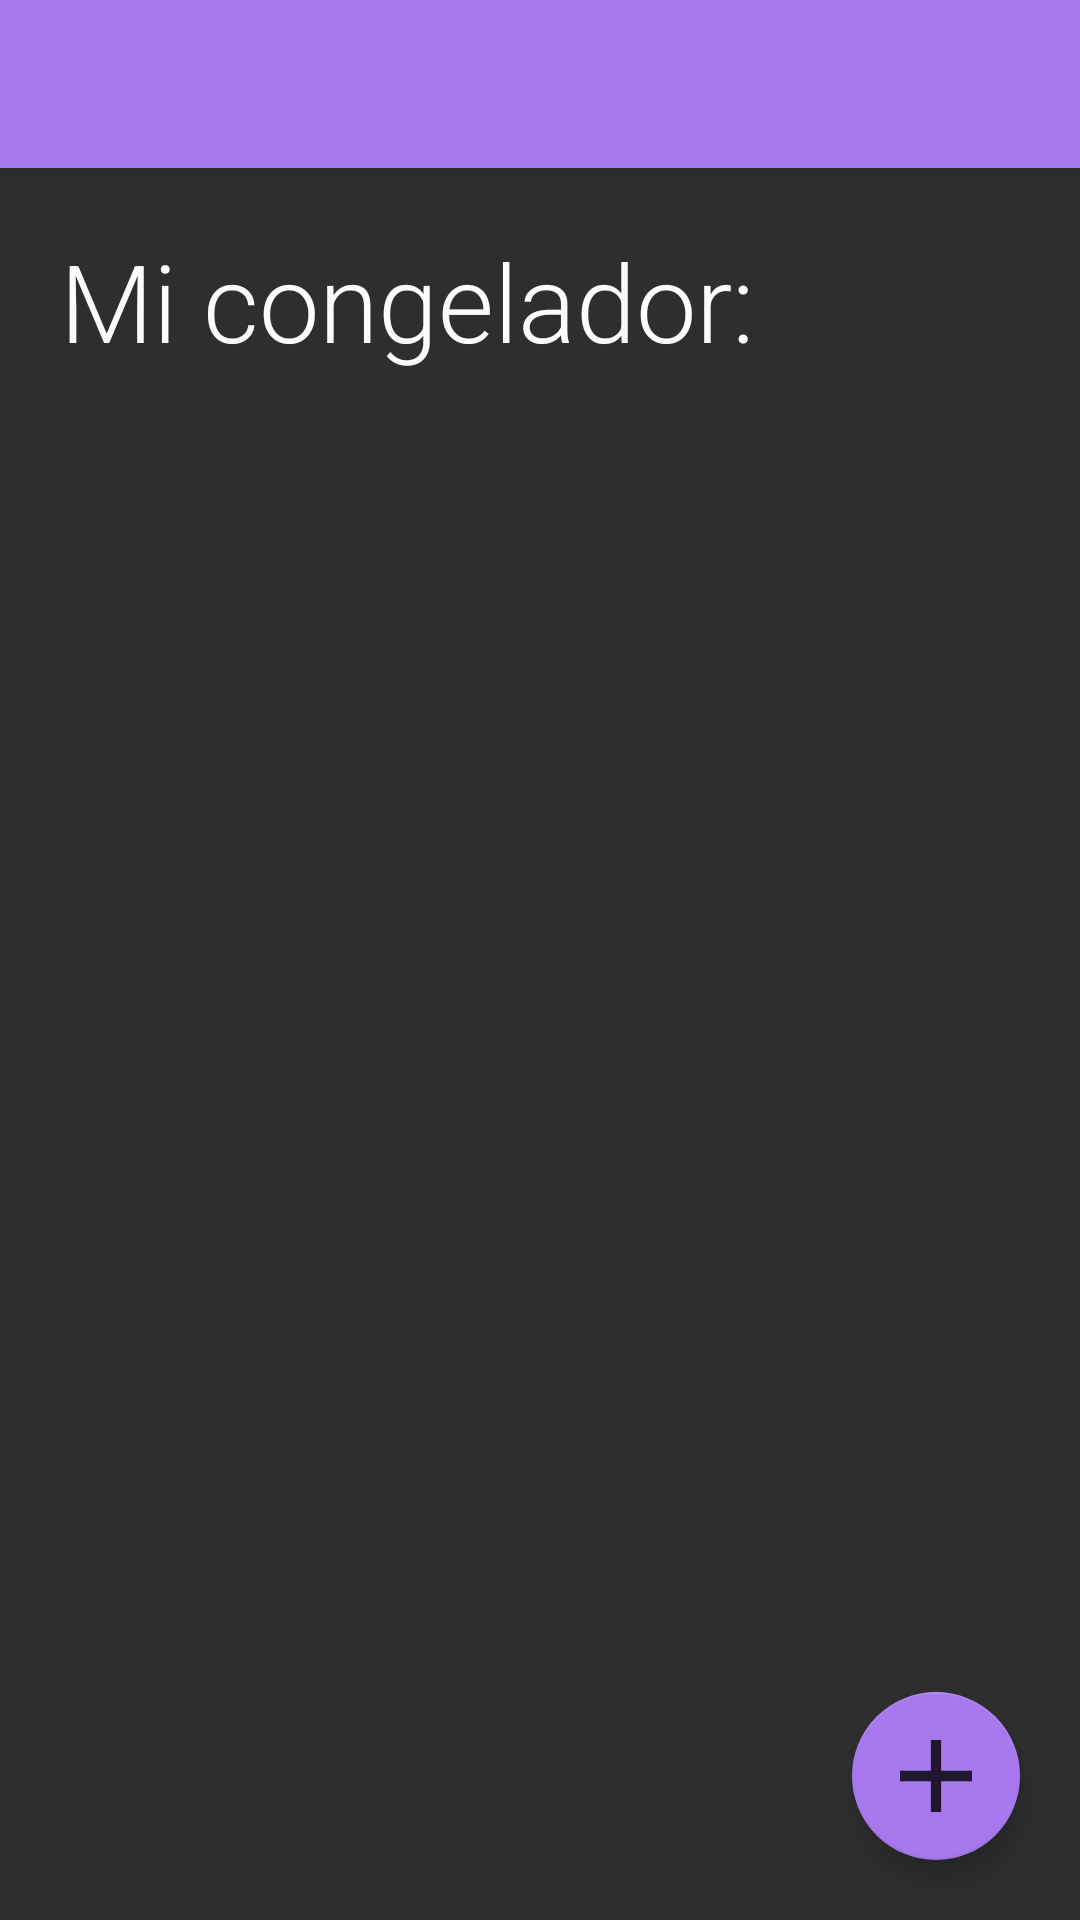

Icons on this 1080×1920 Android screen, each with its box as box=[x1, y1, x2, y2]:
add: box=[852, 1692, 1020, 1860]
